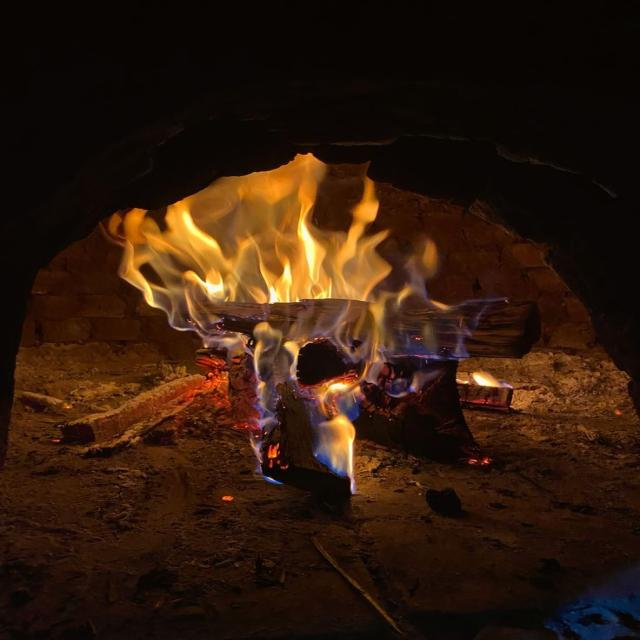fire: (112, 150, 468, 361), (251, 362, 357, 491), (363, 356, 441, 398)
